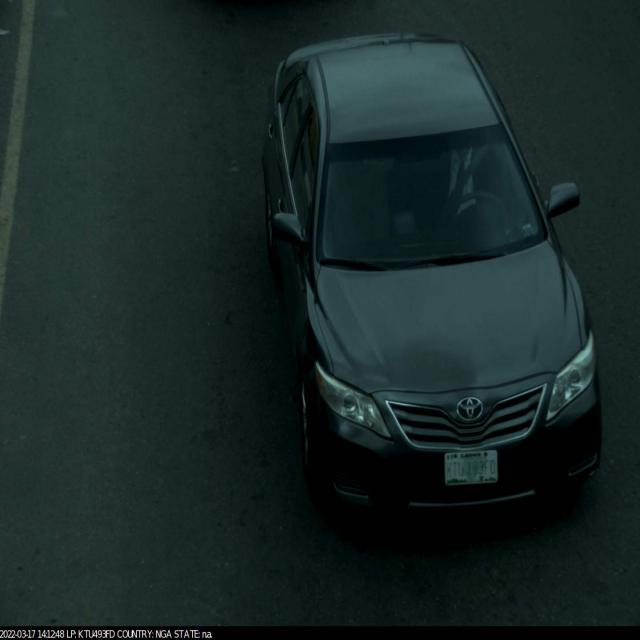windshield: (314, 121, 555, 270)
